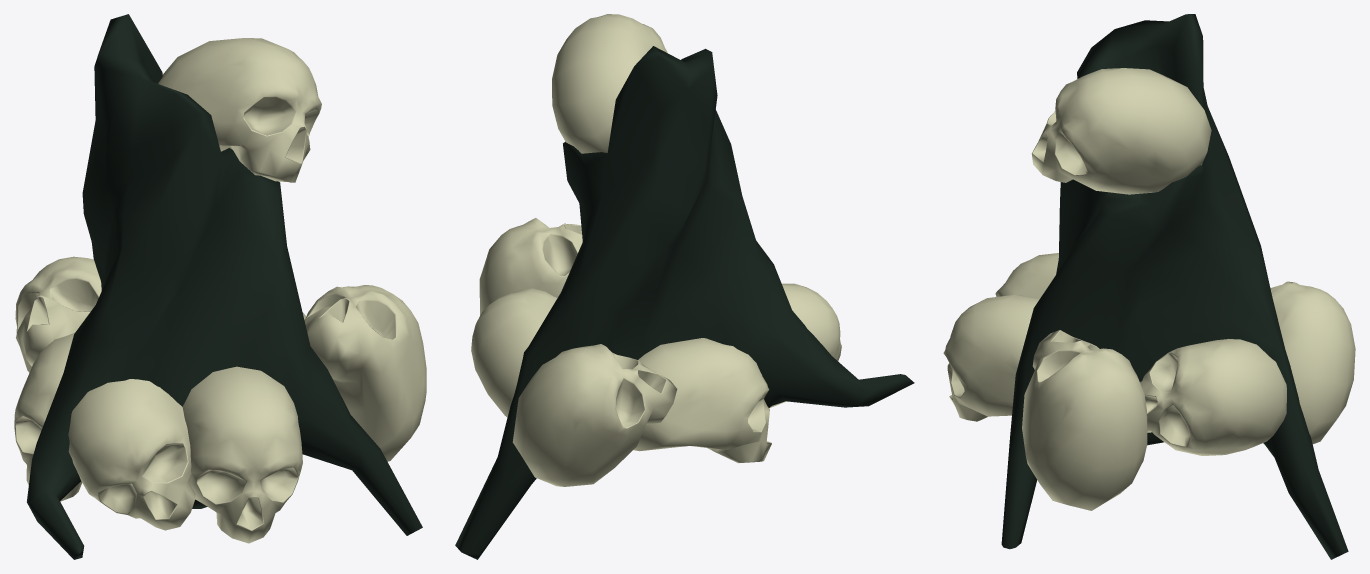
Rendered from arbolCortado (1).fbx.
The picture shows the model from 3 angles, left to right: view 1: azimuth 30°, elevation 25°; view 2: azimuth 150°, elevation 25°; view 3: azimuth 270°, elevation 25°; orthographic projection. The views are drawn at different scales.
Parts seen in each view (by area): view 1: arbolCortado; view 2: arbolCortado; view 3: arbolCortado.
Part boxes in pixels (x1,y1,x2,y2): arbolCortado: (14,14,426,559); arbolCortado: (455,14,914,559); arbolCortado: (943,14,1355,559).
Bounding box in the file's own units: 201 × 254 × 192.
